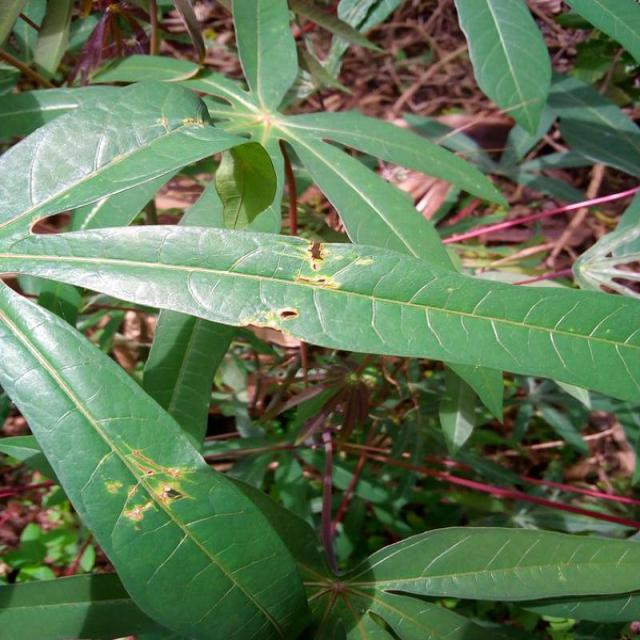cassava leaf: (0, 1, 638, 636), (1, 219, 639, 418), (0, 275, 313, 638)
